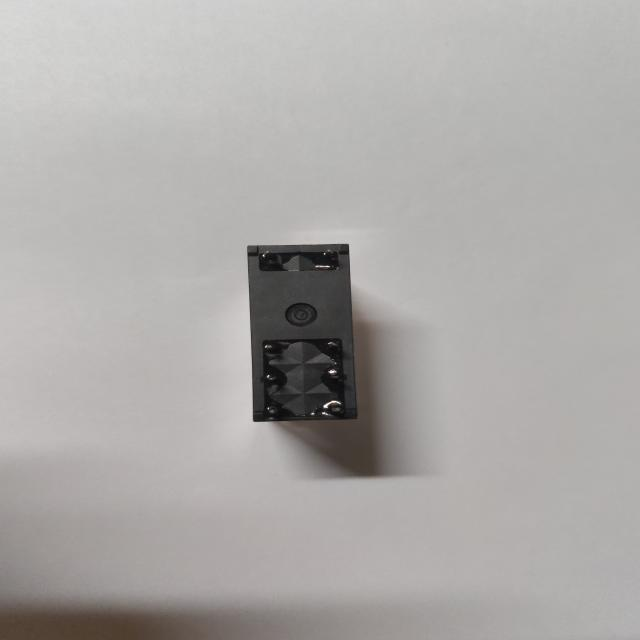relay: (238, 238, 368, 431)
